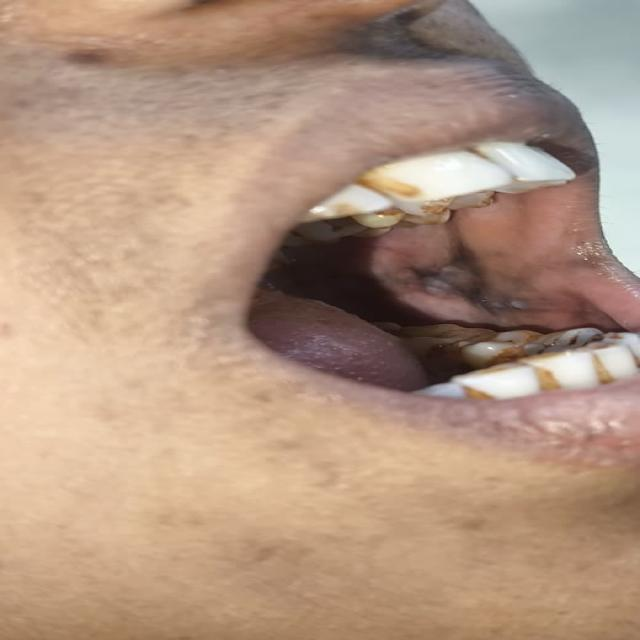leukoplakia-like-detection: (365, 244, 618, 329)
processing_area: (372, 185, 639, 326)
